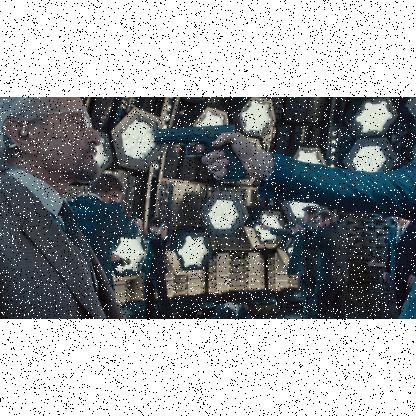gun: (148, 120, 242, 180), (283, 219, 303, 234), (247, 218, 267, 230), (129, 214, 143, 230), (156, 219, 168, 232)
